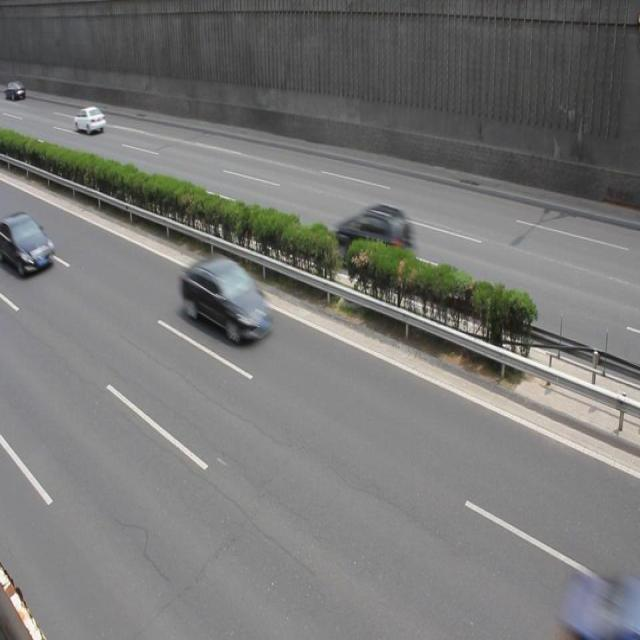car: (179, 251, 276, 344), (332, 201, 416, 278), (1, 211, 56, 277), (74, 104, 106, 134)
